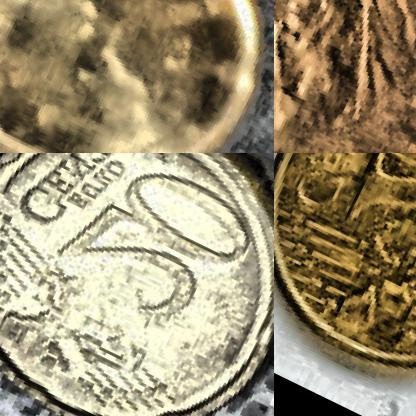coin: (0, 153, 273, 415), (0, 0, 273, 152), (274, 153, 415, 415), (274, 0, 415, 152)
